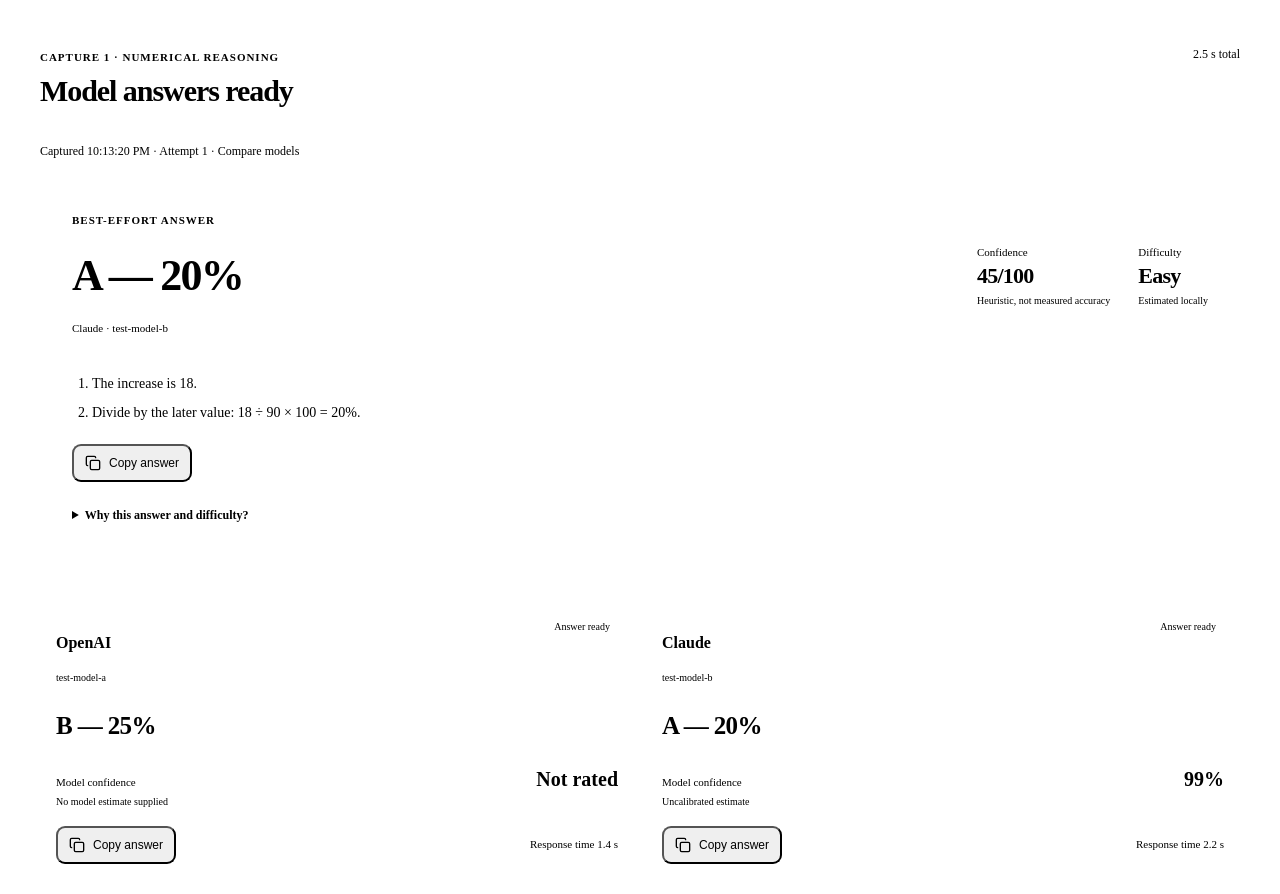
it: model comparison results › keeps both individual answers and copy controls on disagreement without declaring a winner
Expected: the heading "Model answers ready" is shown, [40,74,293,108]
Expected: the text "B — 25%" is shown, [56,712,156,739]
Click the button with aria-label "Copy Claude answer".
click(722, 845)  # box [662,826,782,864]
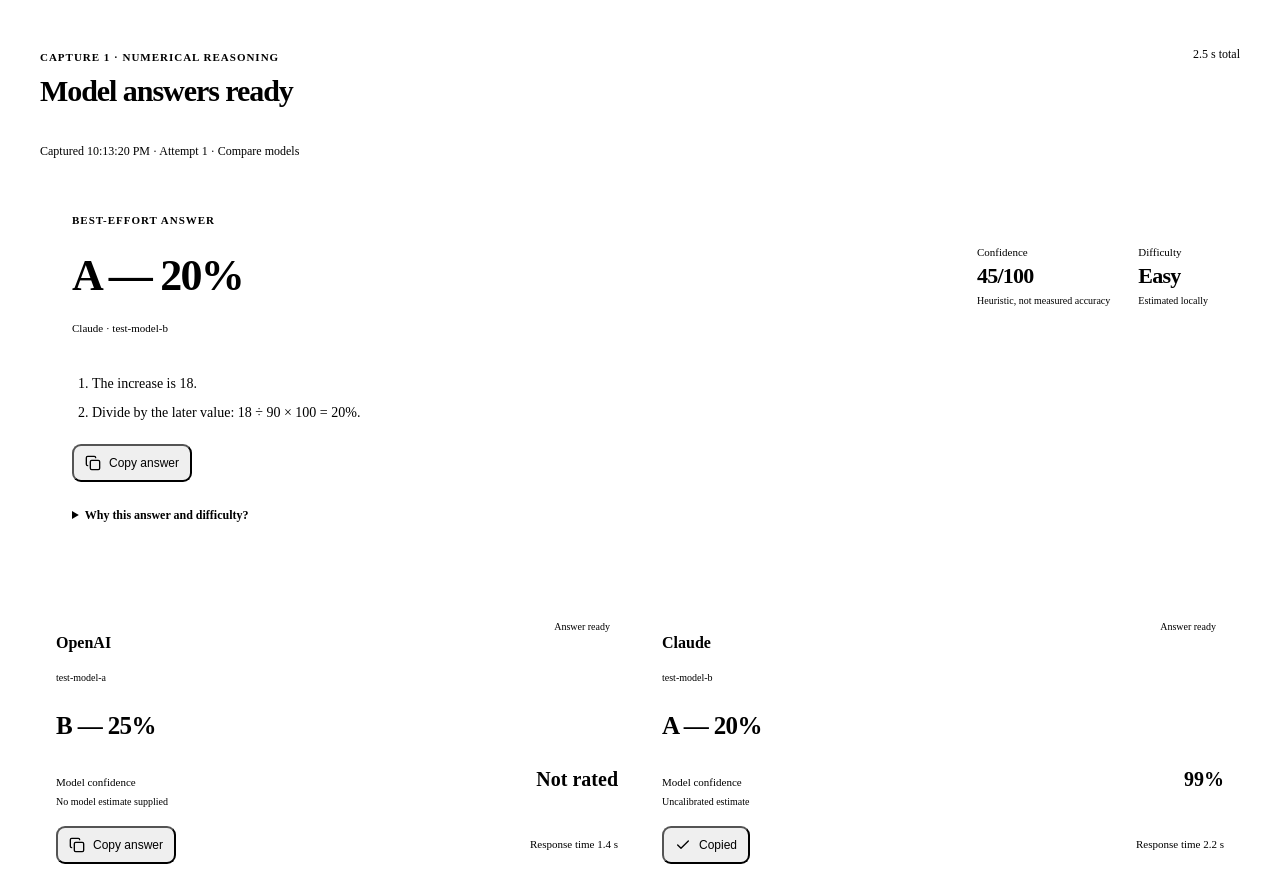
Expected: the button with aria-label "Claude answer copied" is shown, [662,826,750,864]
Click the button with aria-label "Copy OpenAI answer".
click(116, 845)  # box [56,826,176,864]
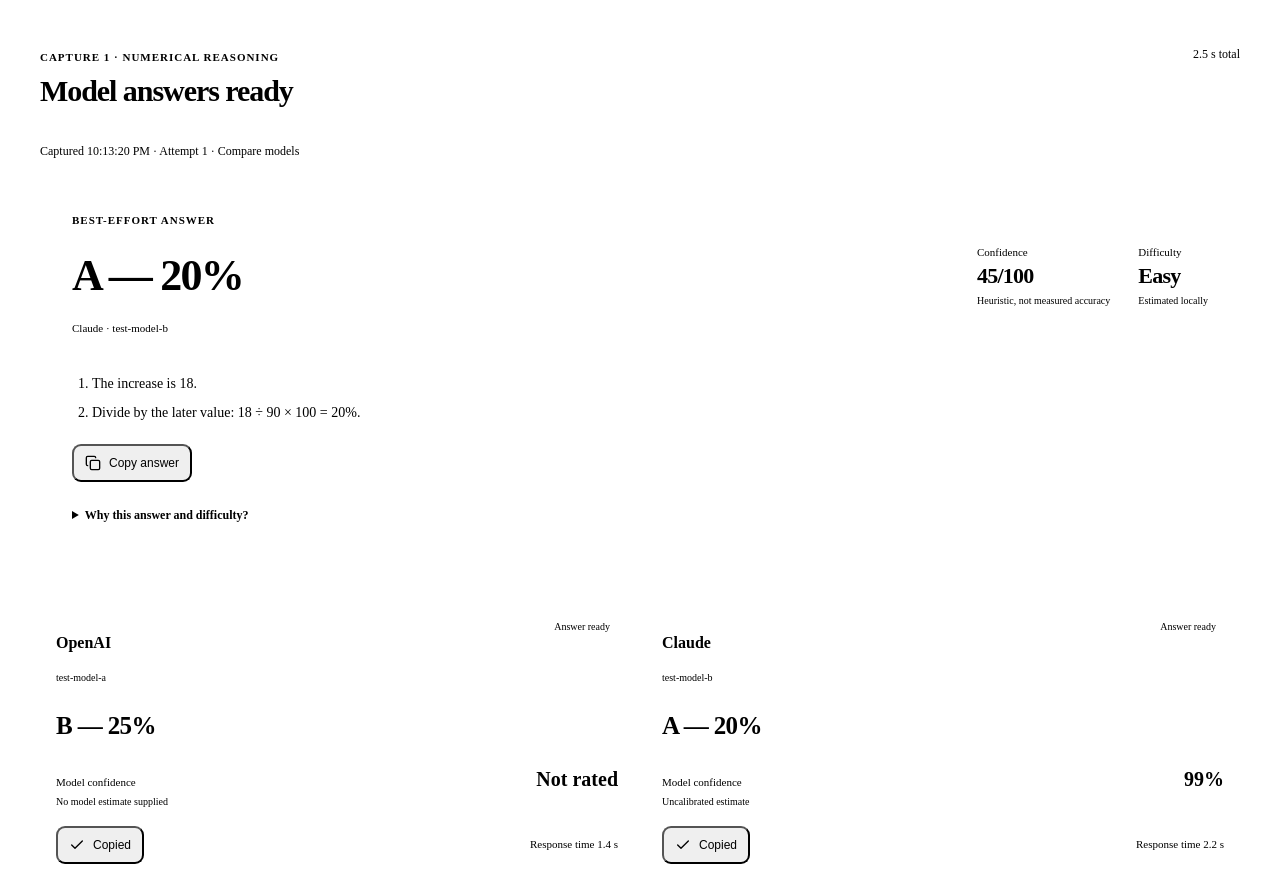
Expected: the button with aria-label "OpenAI answer copied" is shown, [56,826,144,864]
